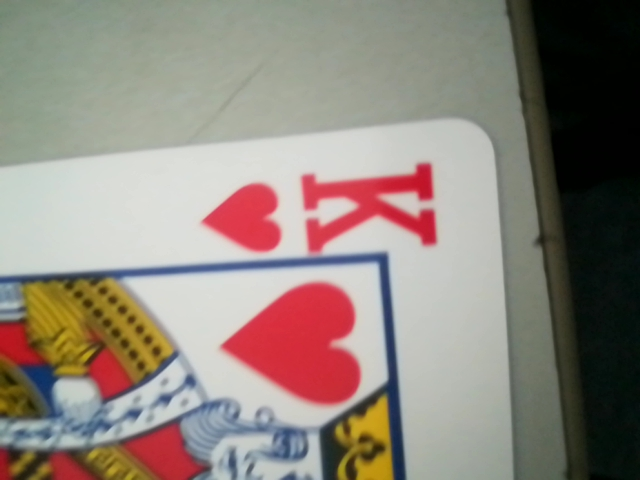hx k: (203, 156, 445, 259)
